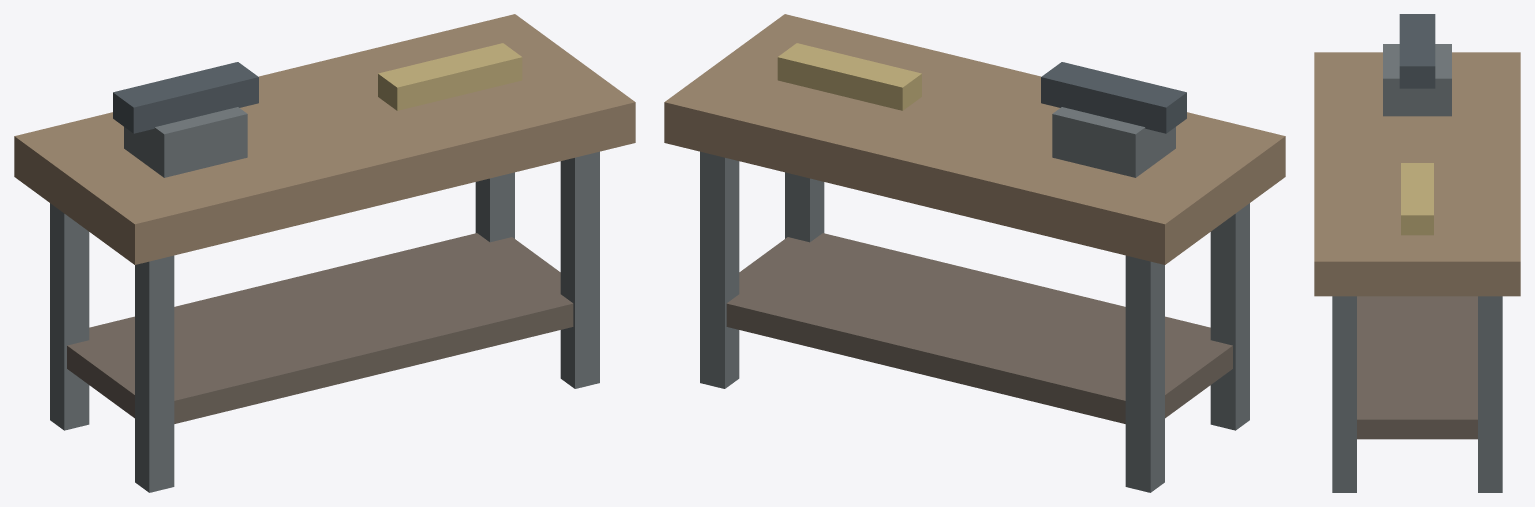
Rendered from workbench.glb.
The picture shows the model from 3 angles, left to right: view 1: azimuth 30°, elevation 25°; view 2: azimuth 150°, elevation 25°; view 3: azimuth 270°, elevation 25°; orthographic projection. The views are drawn at different scales.
Visible parts, largest first — view 1: body; view 2: body; view 3: body.
Part boxes in pixels (<box>): body: <box>14,14,635,492</box>; body: <box>664,14,1285,492</box>; body: <box>1314,14,1520,492</box>.
Bounding box in the file's own units: 1.8 × 1.21 × 0.75.
